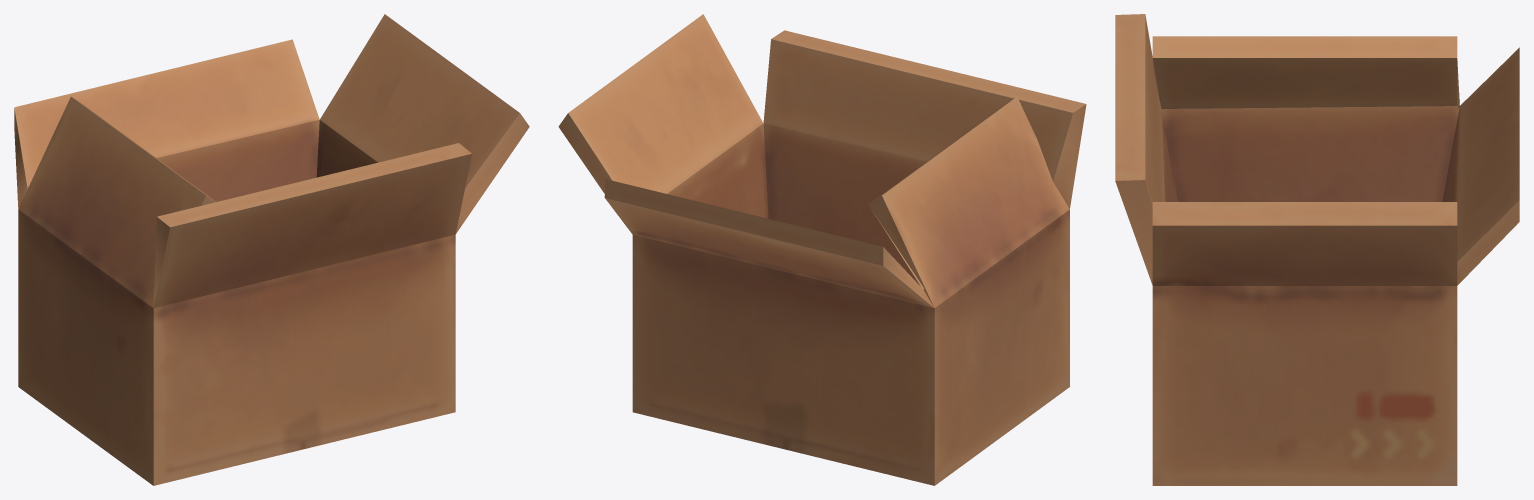
The model's file is Pfb_PaperBox.fbx.
3 views of the same model, side by side, from view 1: azimuth 30°, elevation 25°; view 2: azimuth 150°, elevation 25°; view 3: azimuth 270°, elevation 25° (orthographic). The views are drawn at different scales.
Parts seen in each view (by area): view 1: Mat_PaperBox_01_01; view 2: Mat_PaperBox_01_01; view 3: Mat_PaperBox_01_01.
Boxes of the visible parts, bbox=[...] form: Mat_PaperBox_01_01: bbox=[14, 14, 529, 485]; Mat_PaperBox_01_01: bbox=[558, 14, 1086, 485]; Mat_PaperBox_01_01: bbox=[1115, 14, 1519, 485].
Size of the model in its own units: 1.23 by 0.8842 by 1.02.
Materials: 1 (1 with a texture image).
